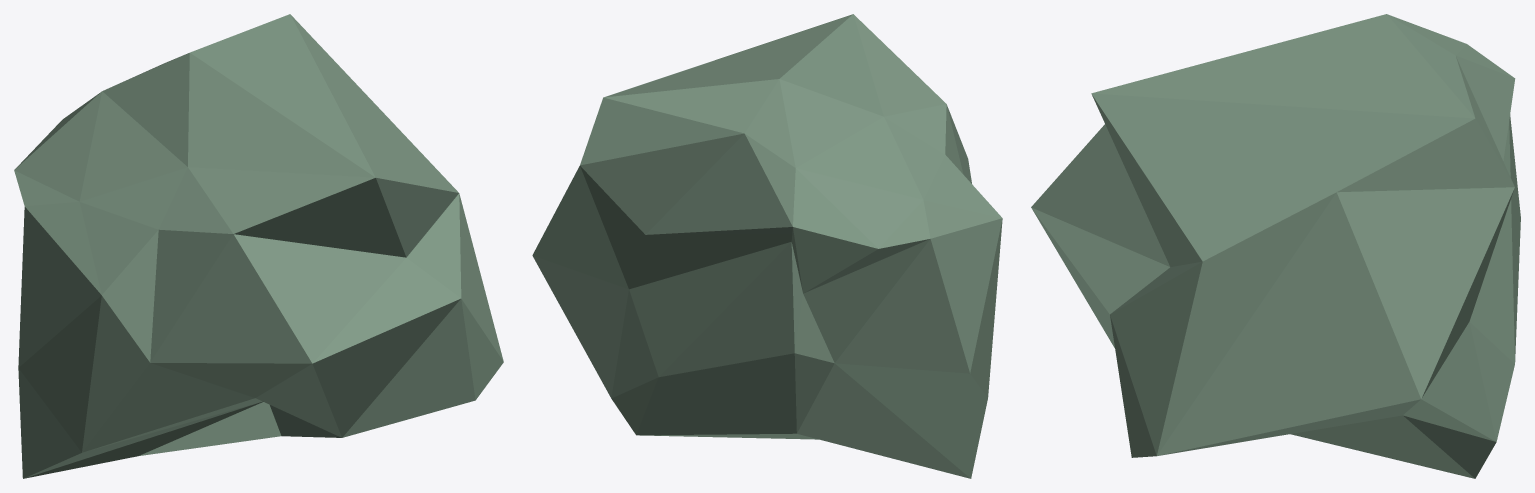
The model's file is piedra02.fbx.
3 views of the same model, side by side, from view 1: azimuth 30°, elevation 25°; view 2: azimuth 150°, elevation 25°; view 3: azimuth 270°, elevation 25° (orthographic). The views are drawn at different scales.
Visible parts, largest first — view 1: piedra02; view 2: piedra02; view 3: piedra02.
Boxes of the visible parts, x1,y1,x2,y2 form: piedra02: [14, 14, 503, 478]; piedra02: [532, 14, 1002, 478]; piedra02: [1031, 14, 1520, 478].
Size of the model in its own units: 334 by 284 by 300.
